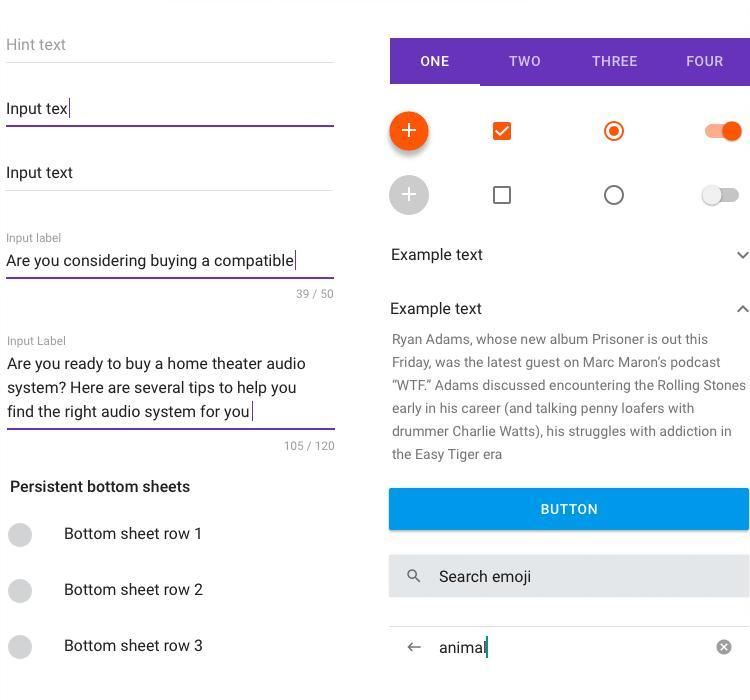button: (392, 488, 750, 530), (660, 41, 750, 88), (568, 40, 658, 86), (482, 40, 566, 86), (392, 41, 480, 84)
checkbox: (495, 122, 512, 141), (495, 187, 512, 206)
dropdown: (386, 296, 750, 323), (388, 244, 750, 269)
icon: (396, 118, 424, 144), (397, 184, 426, 209)
input: (390, 556, 750, 595)
label: (8, 478, 200, 498), (59, 521, 206, 544), (63, 579, 209, 601), (62, 636, 204, 656), (2, 330, 72, 350), (3, 230, 63, 246)
radio: (7, 577, 36, 609), (7, 519, 35, 550), (10, 634, 35, 667), (600, 119, 629, 147), (600, 185, 631, 208)
switch: (696, 180, 749, 209), (701, 119, 746, 144)
